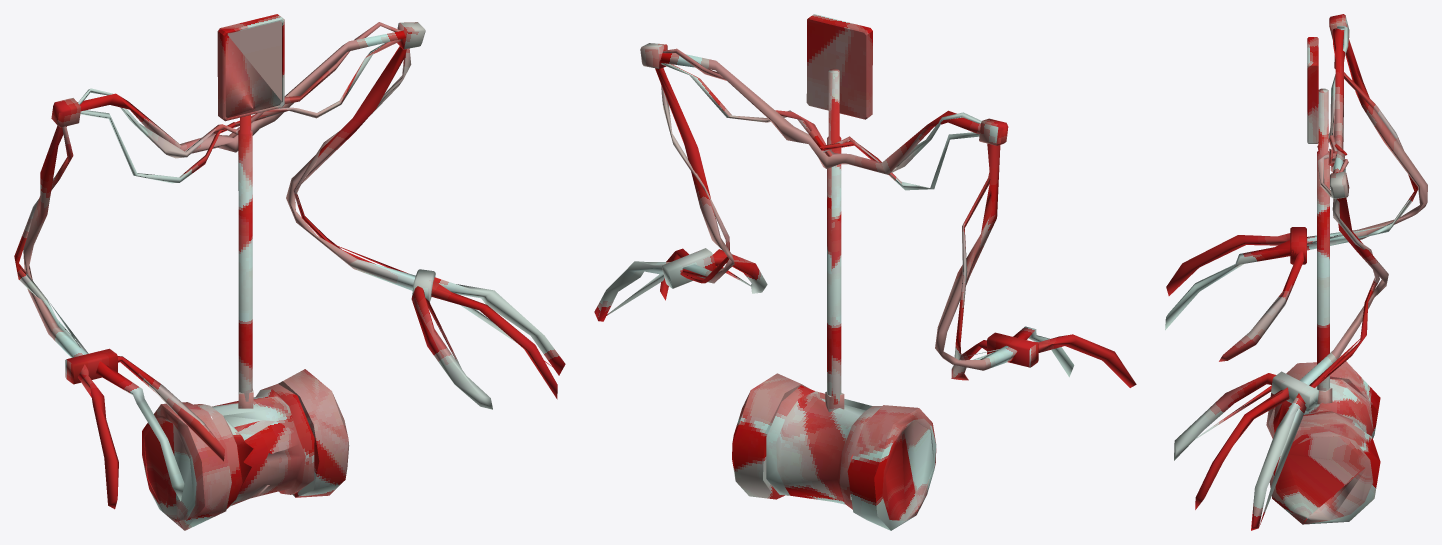
File: item_squishy_gold_segway.glb
3 views of the same model, side by side, from view 1: azimuth 30°, elevation 25°; view 2: azimuth 150°, elevation 25°; view 3: azimuth 270°, elevation 25° (orthographic). The views are drawn at different scales.
Visible parts, largest first — view 1: toy_segway; view 2: toy_segway; view 3: toy_segway.
Boxes of the visible parts, box(x1,y1,x2,y2) form: toy_segway: box(14, 14, 565, 530); toy_segway: box(594, 14, 1136, 530); toy_segway: box(1165, 14, 1427, 530).
Size of the model in its own units: 0.3165 by 0.2918 by 0.1571.
1 material, 1 textured.
